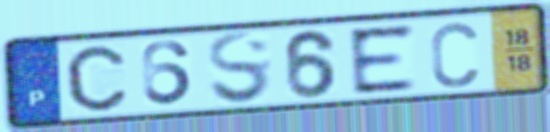6: (283, 26, 338, 101), (139, 39, 195, 108)
C: (62, 42, 130, 113), (427, 20, 481, 91)
E: (344, 21, 420, 97)
S: (205, 29, 274, 107)
